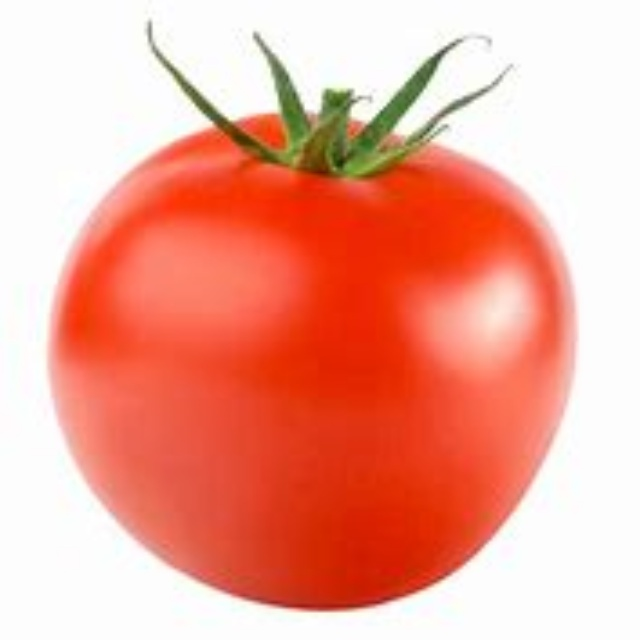tomato: (54, 28, 582, 615)
